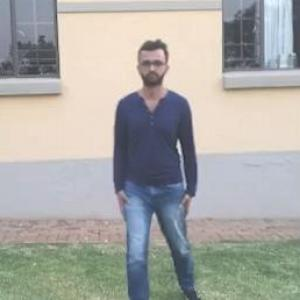follow: (110, 42, 192, 299)
